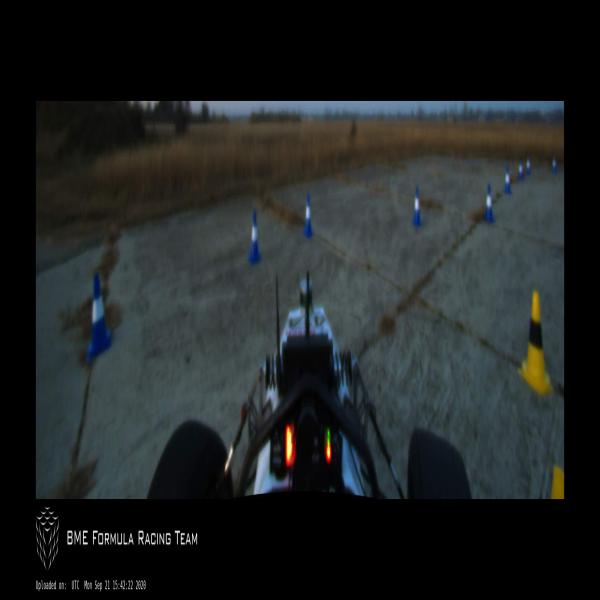blue_cone: (86, 274, 112, 361), (249, 212, 261, 264), (303, 195, 312, 238), (412, 187, 421, 225), (485, 185, 494, 222), (504, 166, 512, 195), (518, 158, 523, 182), (552, 154, 558, 173), (526, 154, 531, 174)
yellow_cone: (518, 290, 554, 395)
